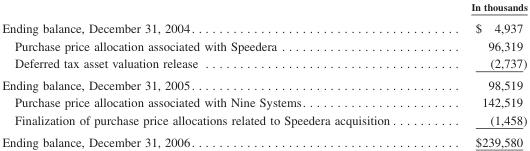table: (1, 1, 526, 148)
table column: (1, 1, 432, 148), (432, 1, 526, 148)
table column header: (1, 1, 526, 16)
table row: (1, 16, 526, 36), (1, 73, 526, 93), (1, 54, 526, 73), (1, 111, 526, 130), (1, 36, 526, 54), (1, 93, 526, 111), (1, 130, 526, 148), (1, 1, 526, 16)
